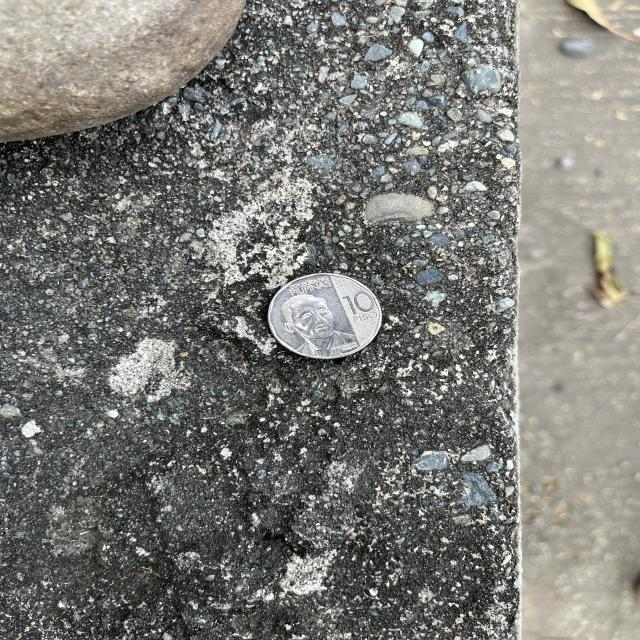10_New_Front: (332, 282, 387, 322)
